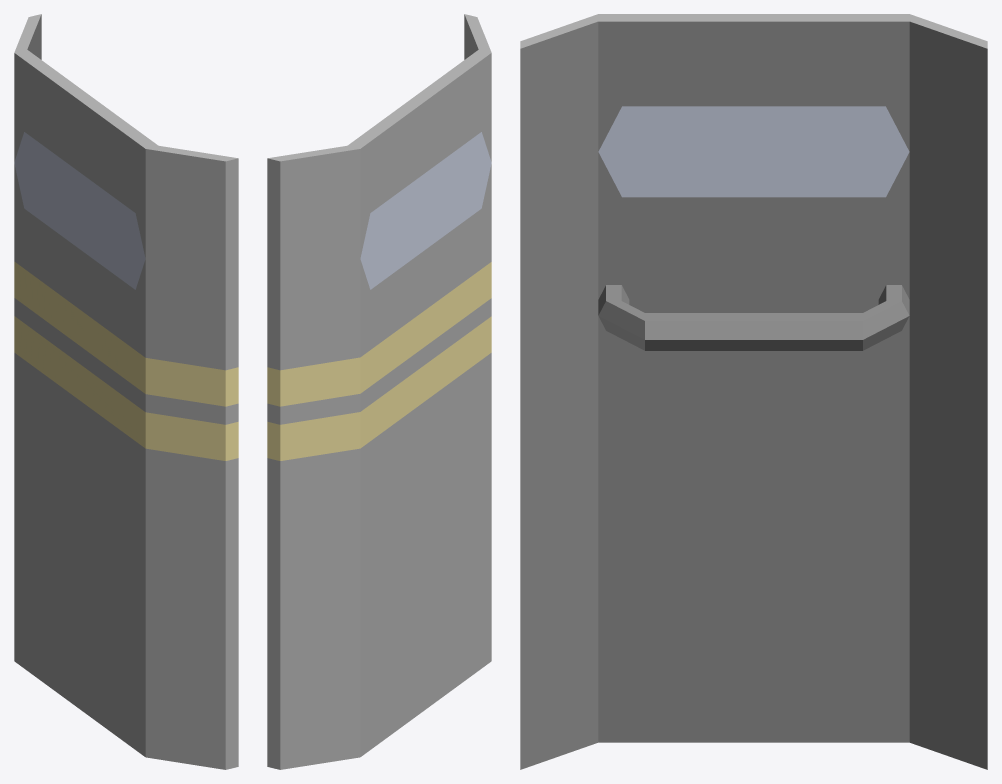
The model's file is RiotShield.fbx.
3 renders of one model, left to right at view 1: azimuth 30°, elevation 25°; view 2: azimuth 150°, elevation 25°; view 3: azimuth 270°, elevation 25°, orthographic. The views are drawn at different scales.
Visible parts, largest first — view 1: RiotShield; view 2: RiotShield; view 3: RiotShield.
Boxes of the visible parts, left/top/right/bottom form: RiotShield: left=14, top=14, right=238, bottom=769; RiotShield: left=267, top=14, right=491, bottom=769; RiotShield: left=520, top=14, right=987, bottom=769.
Size of the model in its own units: 0.095 by 0.67 by 0.3934.
